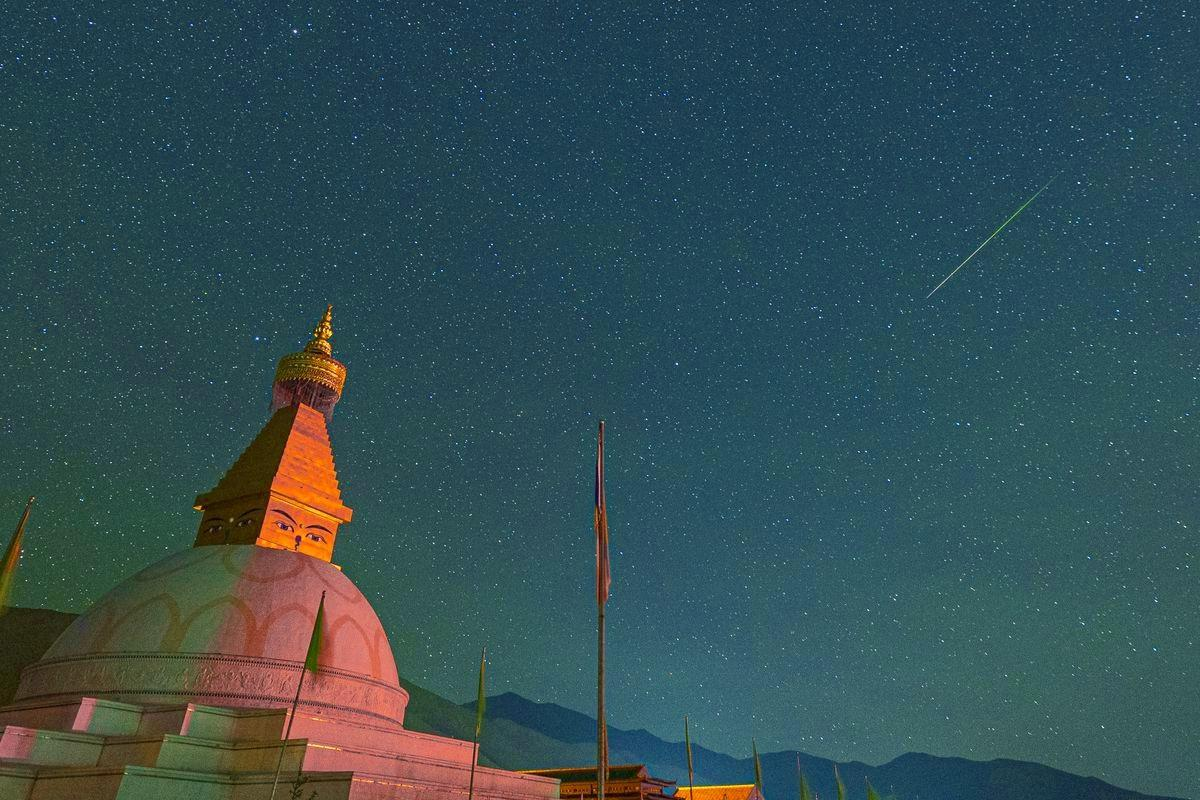meteorite: (904, 189, 1054, 318)
